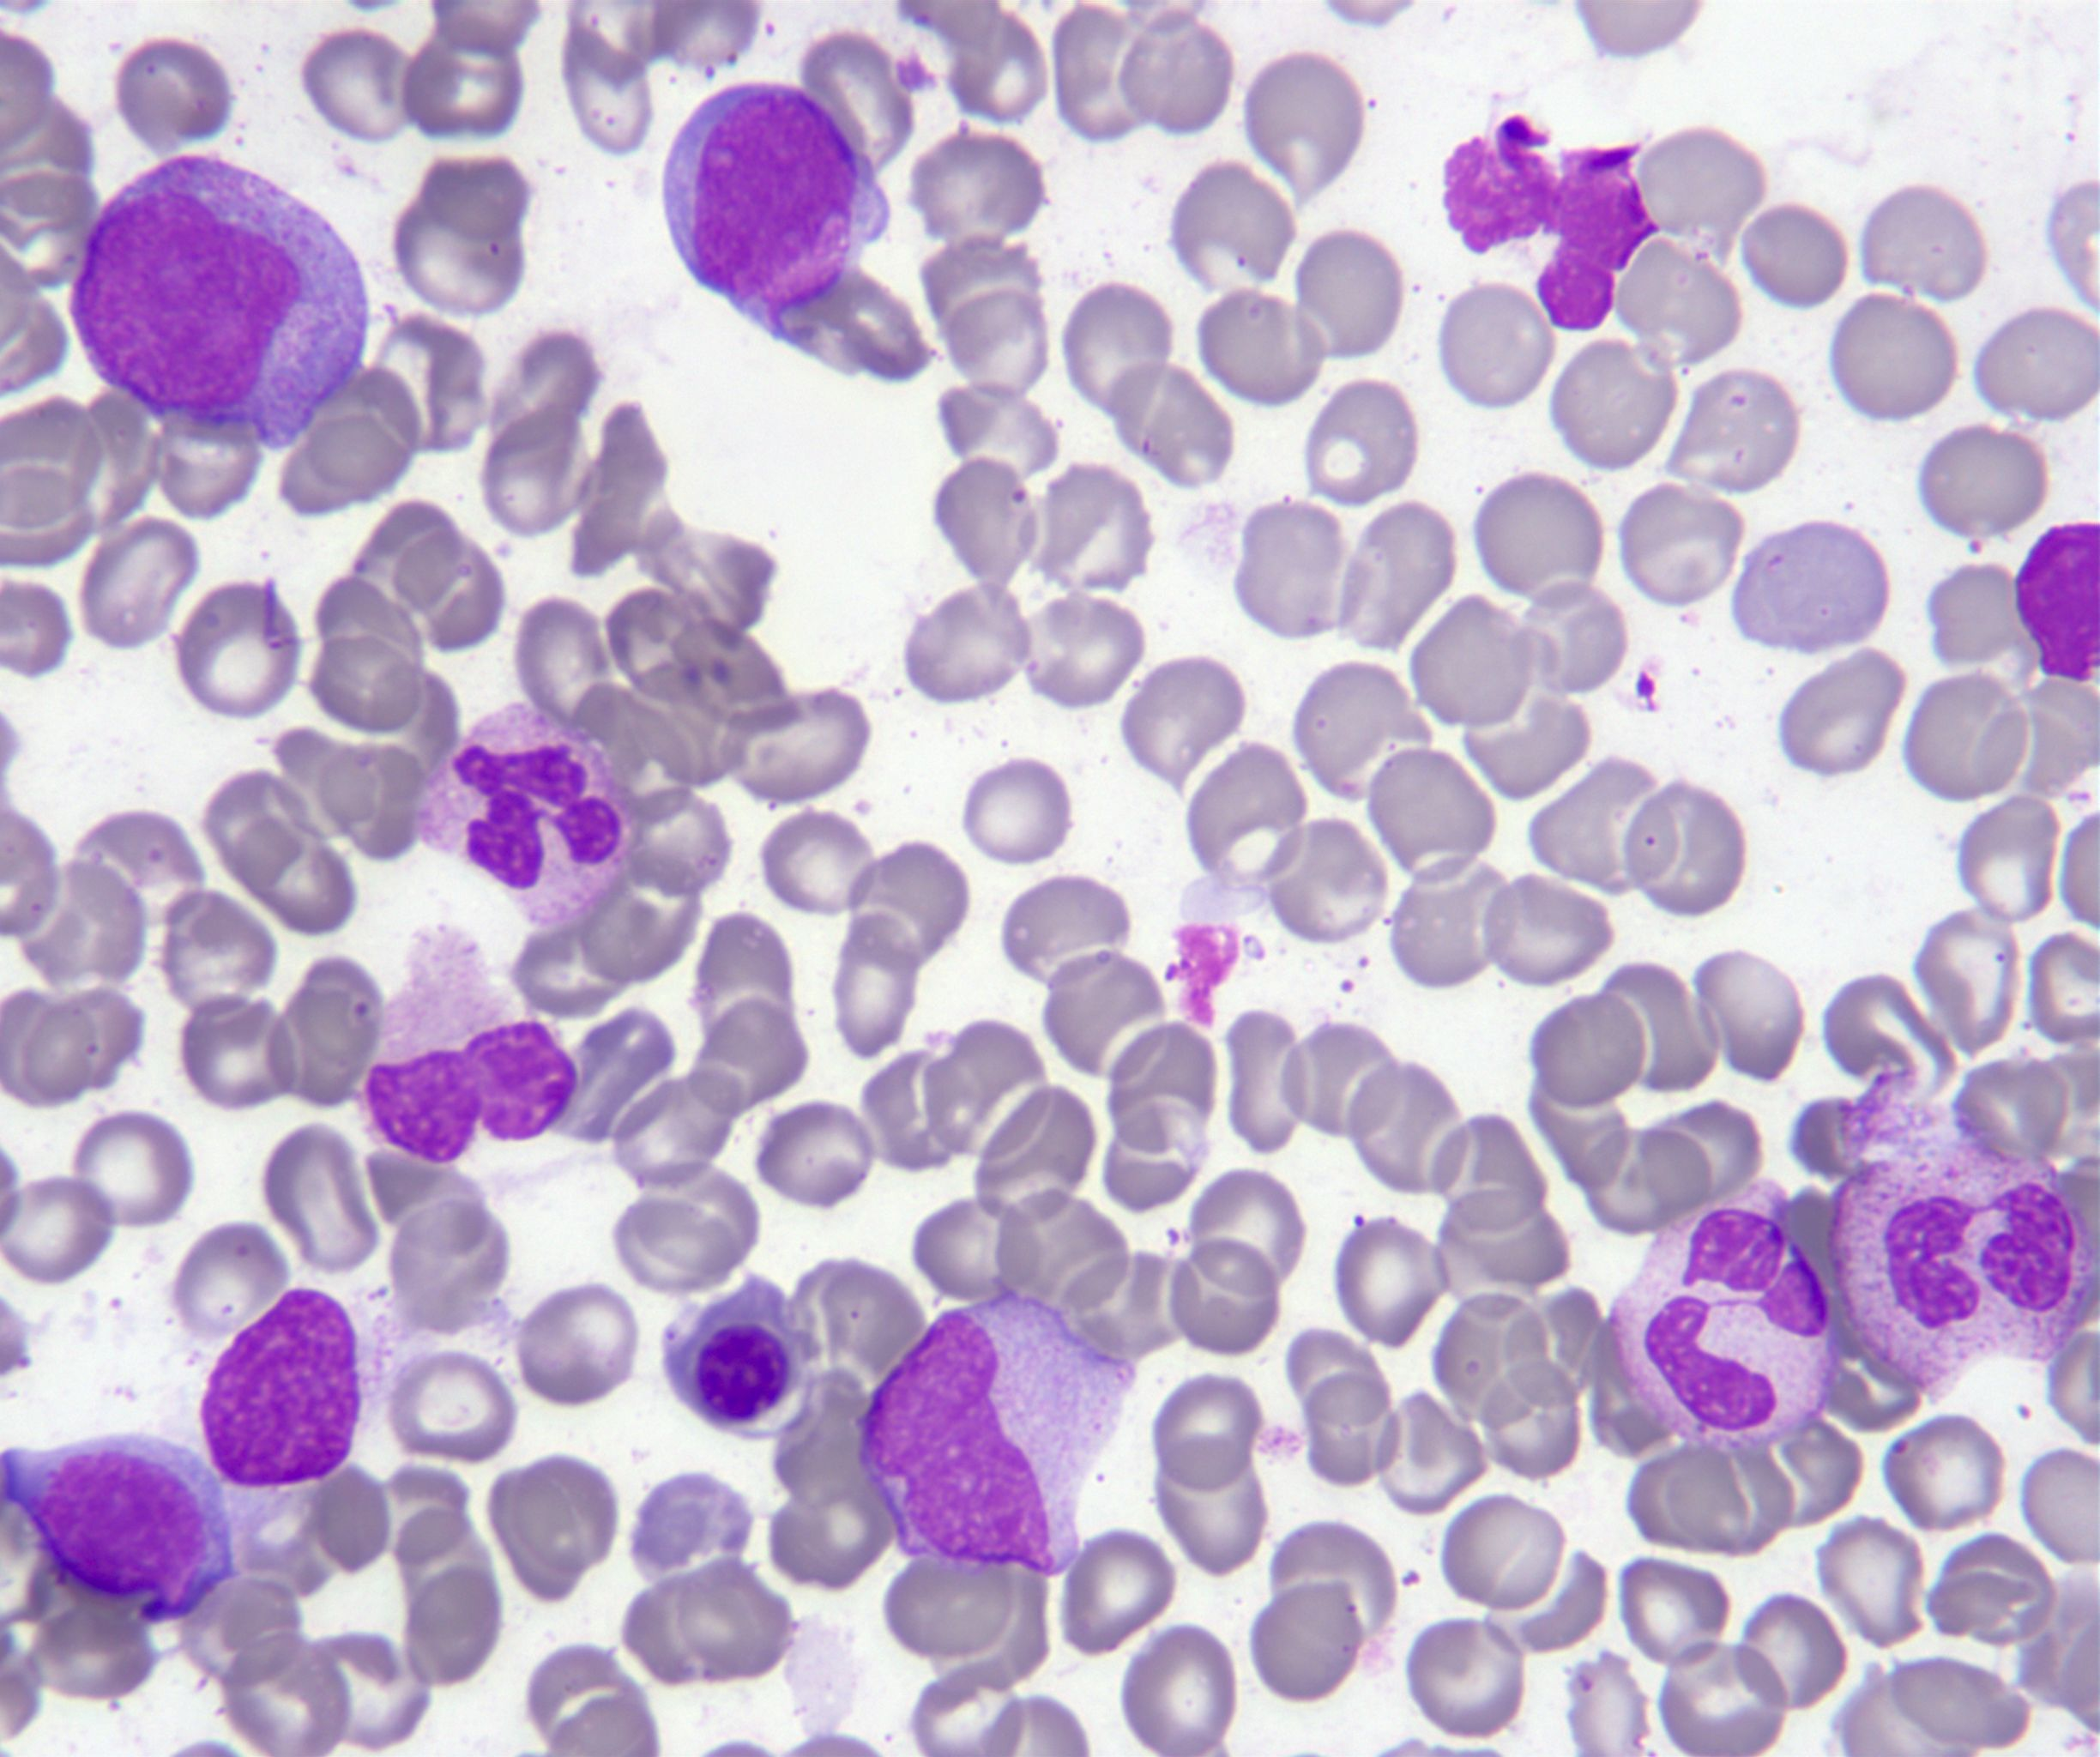1: (665, 84, 890, 330)
2: (70, 157, 368, 450)
22: (2, 1438, 237, 1623)
23: (663, 1272, 818, 1441)
42: (860, 1291, 1134, 1577)
5: (352, 928, 577, 1166)
6: (1831, 1066, 2090, 1403), (1610, 1179, 1833, 1448), (419, 703, 642, 925)
x: (1444, 117, 1657, 332), (202, 1291, 361, 1488), (2015, 522, 2100, 684)
